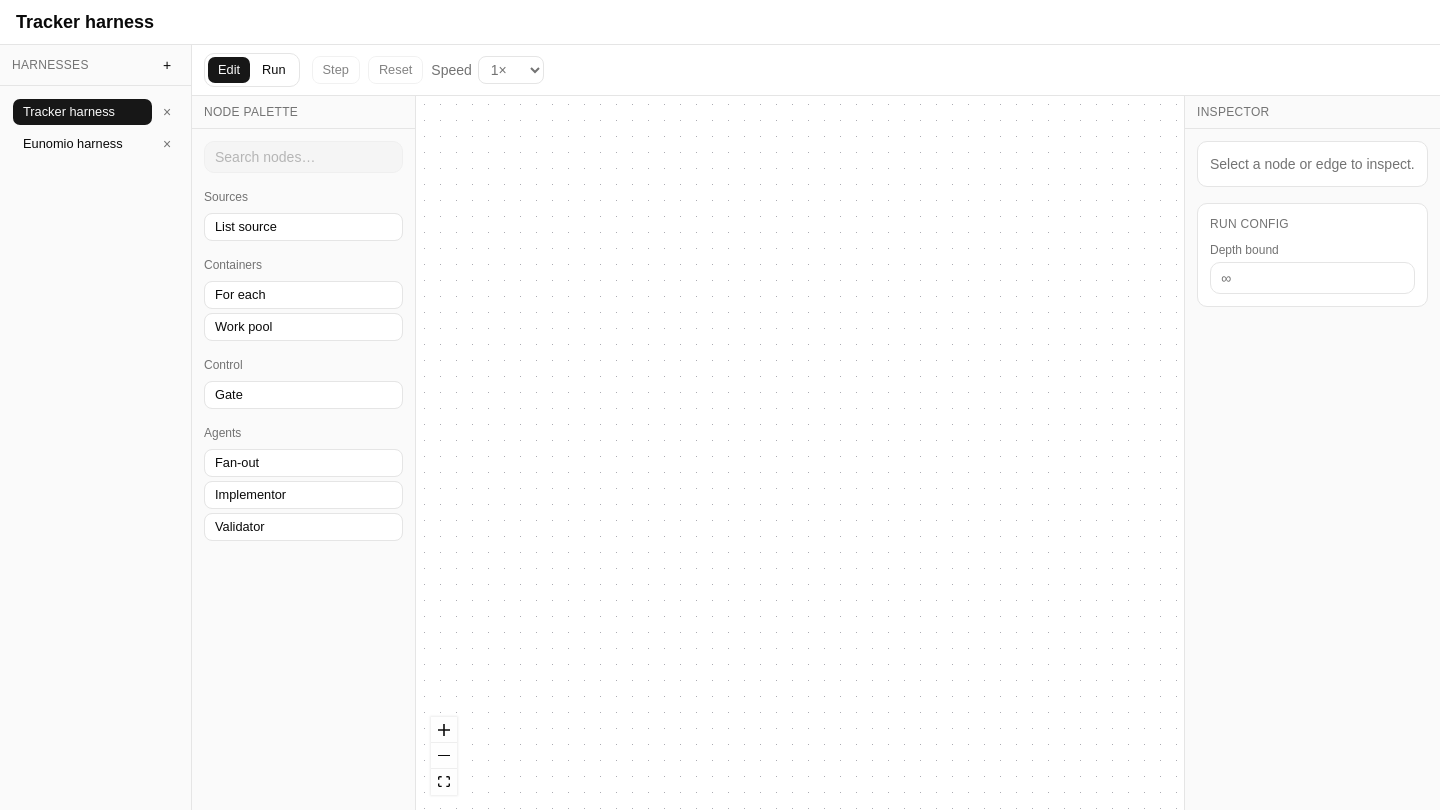
Test: harness sidebar › renames a harness via blur commit
Double-click the button "Tracker harness" at coordinates (82, 112), box [12, 98, 153, 126]
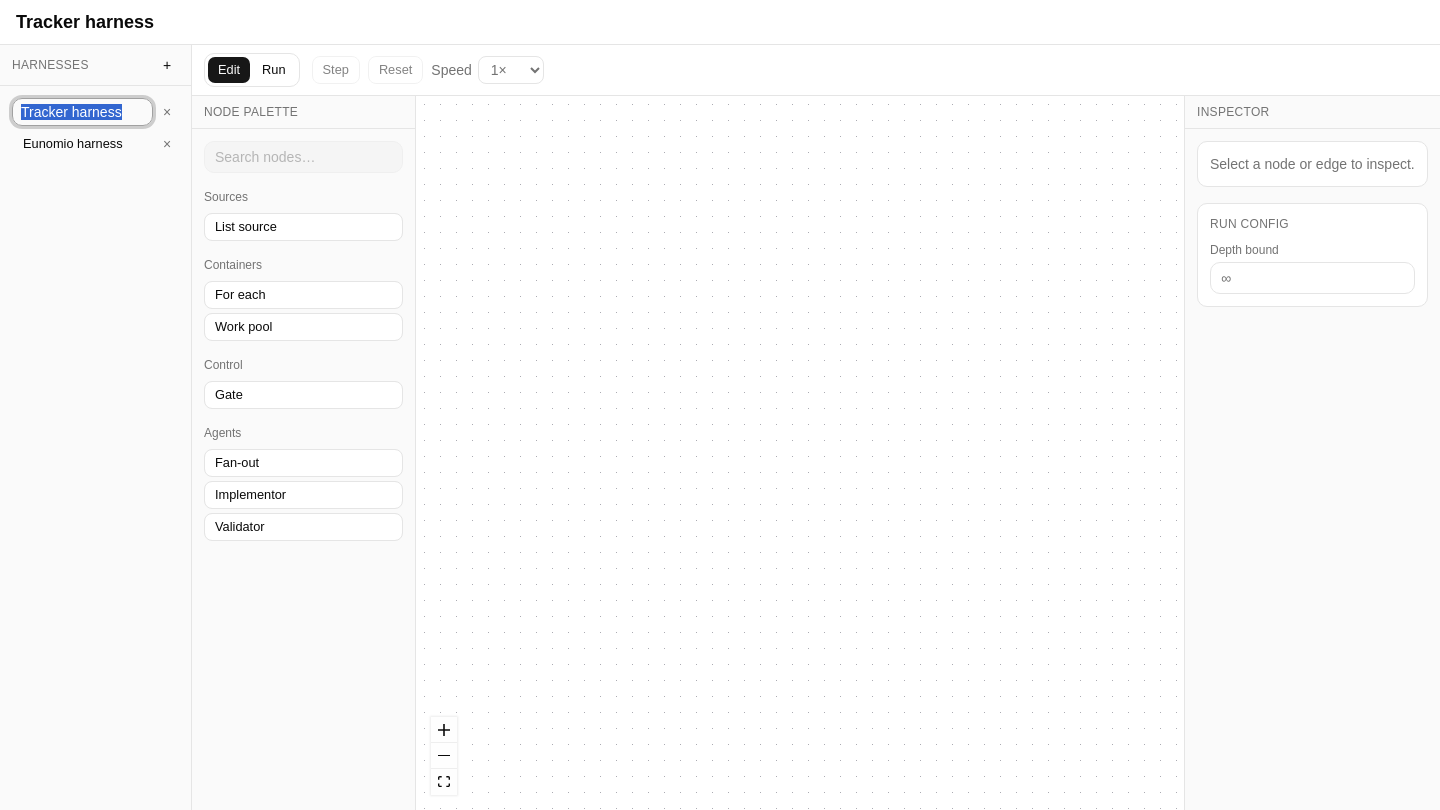
Replace the text in the field named "Rename Tracker harness" with "Blurred Tracker" at coordinates (82, 112), box [12, 98, 153, 126]
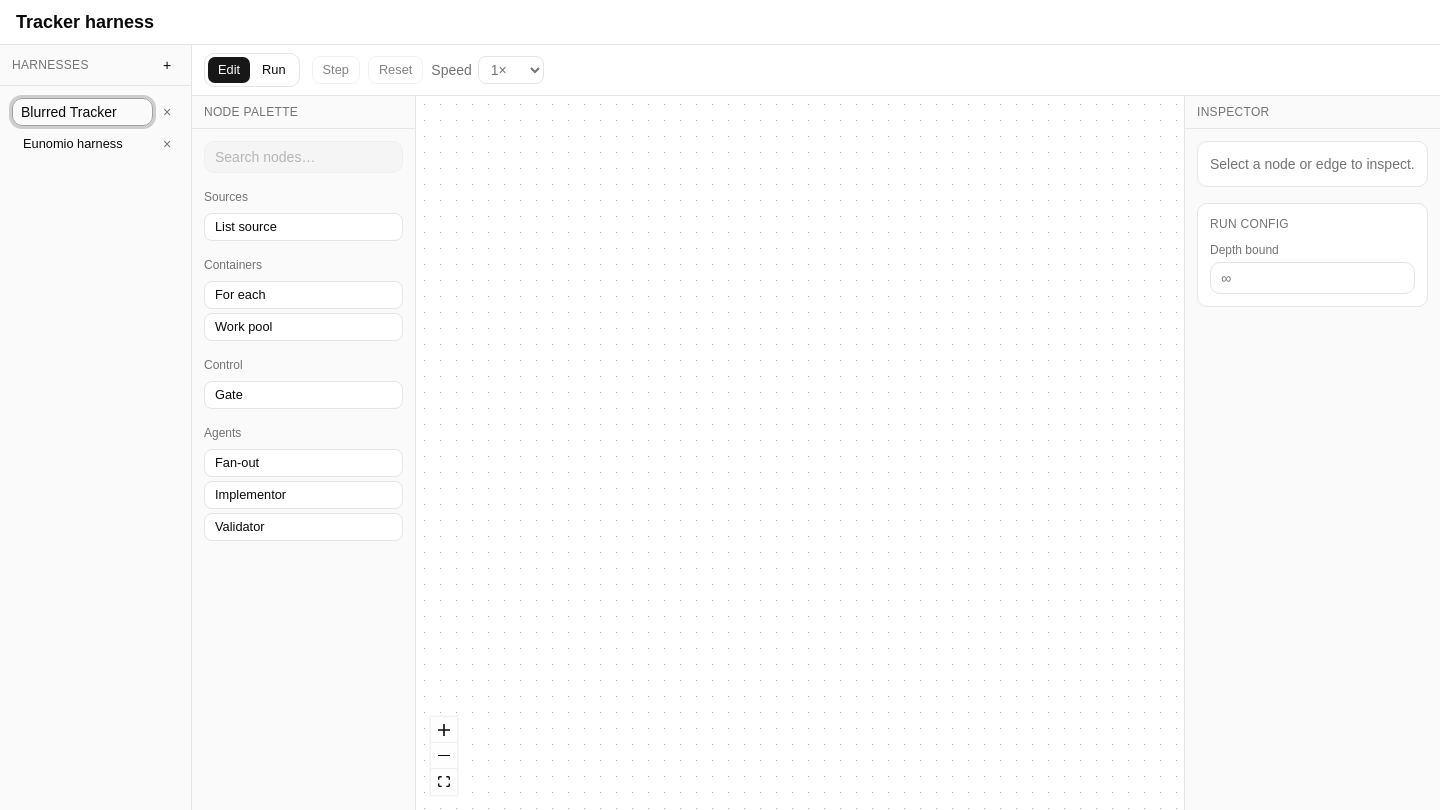
Leave the field named "Rename Tracker harness", box [12, 98, 153, 126]
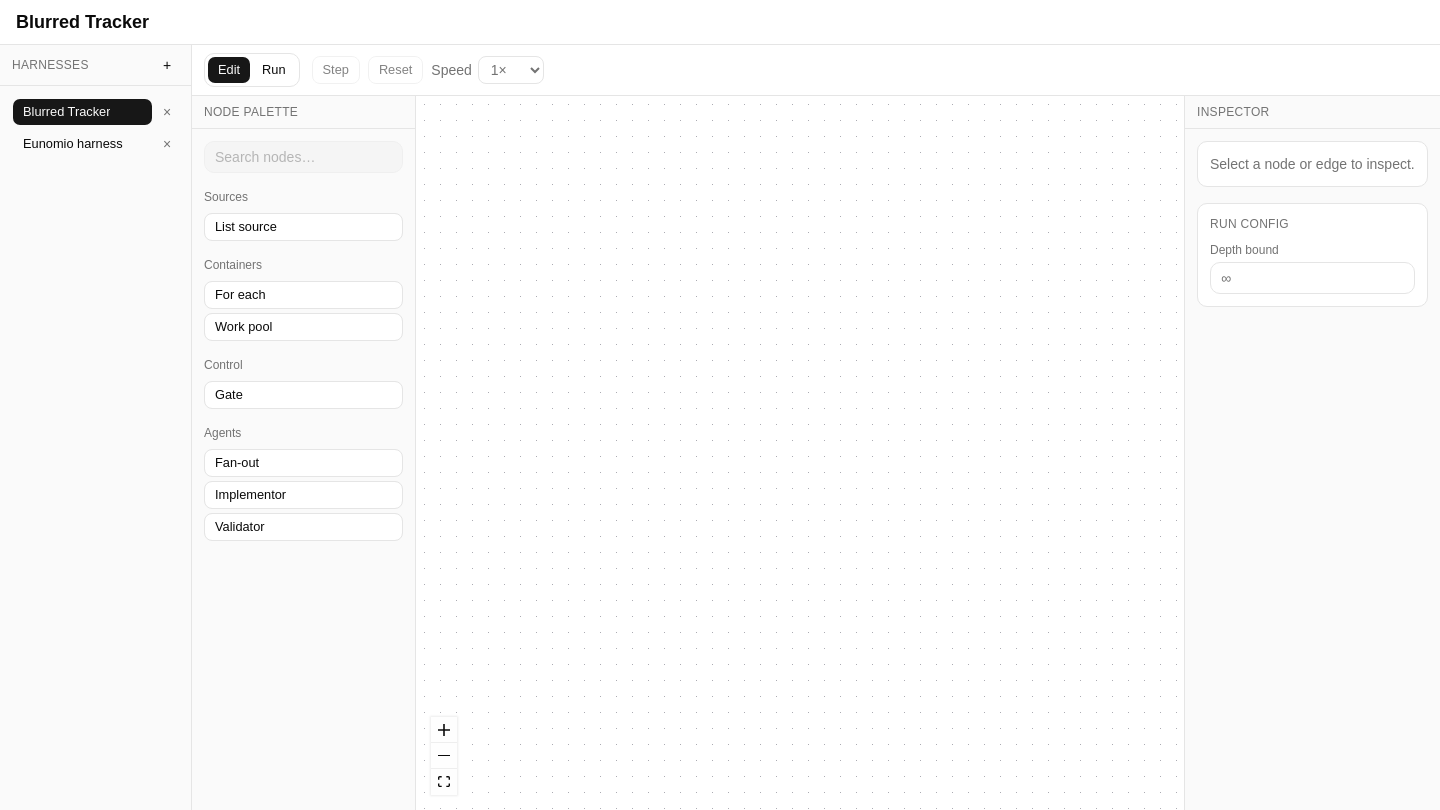
Now the heading with test id "harness-title" reads "Blurred Tracker", box [16, 12, 149, 32]
